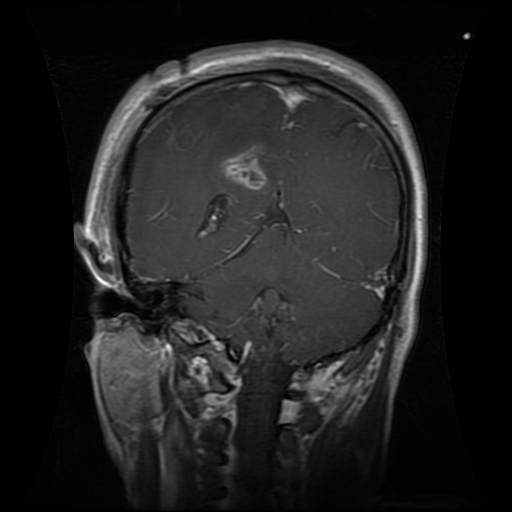glioma: (219, 143, 267, 186)
